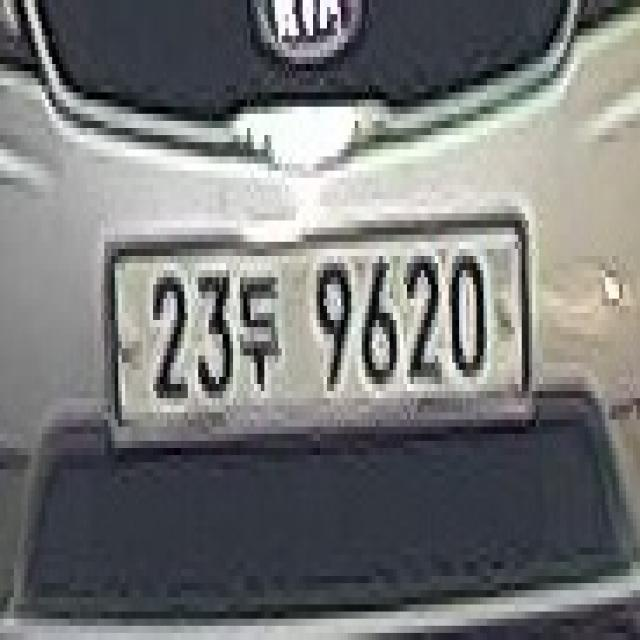0: (450, 231, 496, 387)
2: (143, 266, 190, 415), (406, 238, 447, 390)
3: (194, 253, 239, 411)
6: (359, 249, 402, 398)
9: (313, 254, 355, 395)
du: (237, 258, 294, 406)
license_plate: (110, 213, 533, 438)
